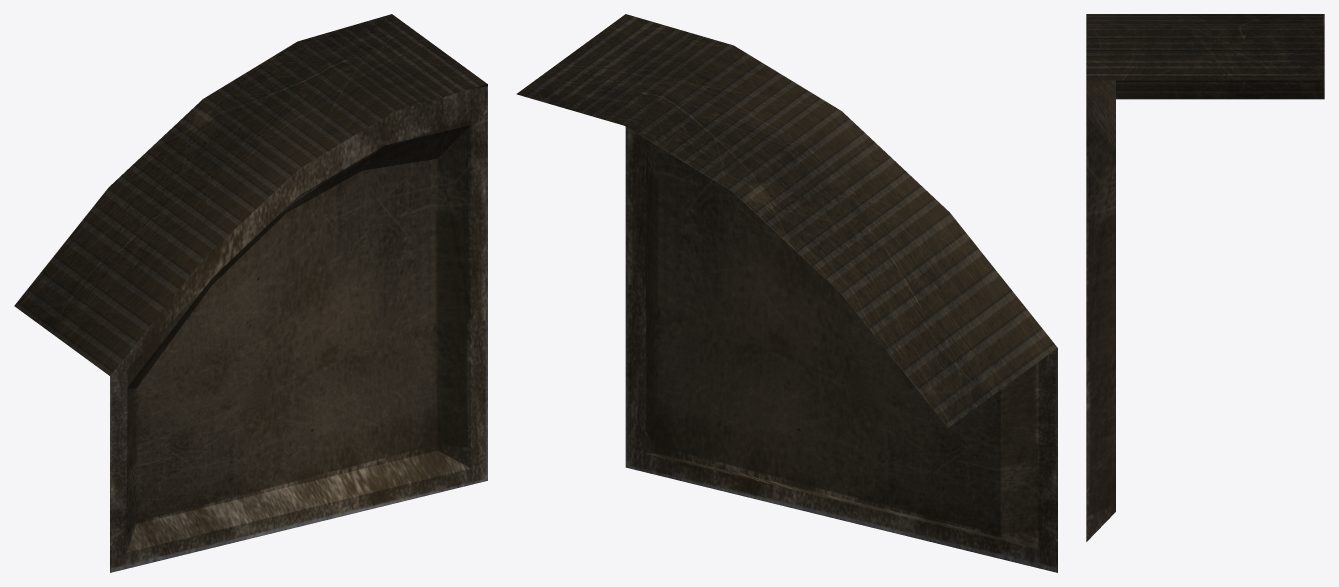
Rendered from floorUp2.fbx.
3 views of the same model, side by side, from view 1: azimuth 30°, elevation 25°; view 2: azimuth 150°, elevation 25°; view 3: azimuth 270°, elevation 25° (orthographic). The views are drawn at different scales.
Parts seen in each view (by area): view 1: pCube31; view 2: pCube31; view 3: pCube31.
Part boxes in pixels (x1,y1,x2,y2): pCube31: (14, 14, 487, 572); pCube31: (516, 14, 1057, 572); pCube31: (1086, 14, 1324, 541).
Bounding box in the file's own units: 16 × 16.05 × 7.03.
